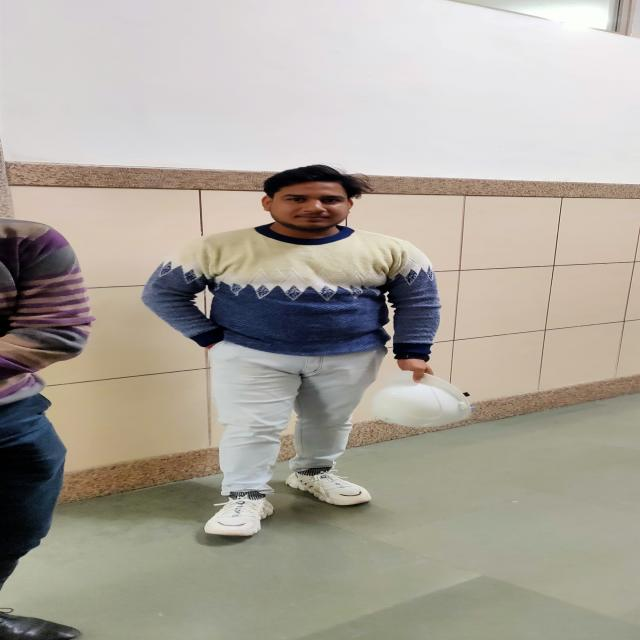unsafe: (144, 166, 450, 538)
